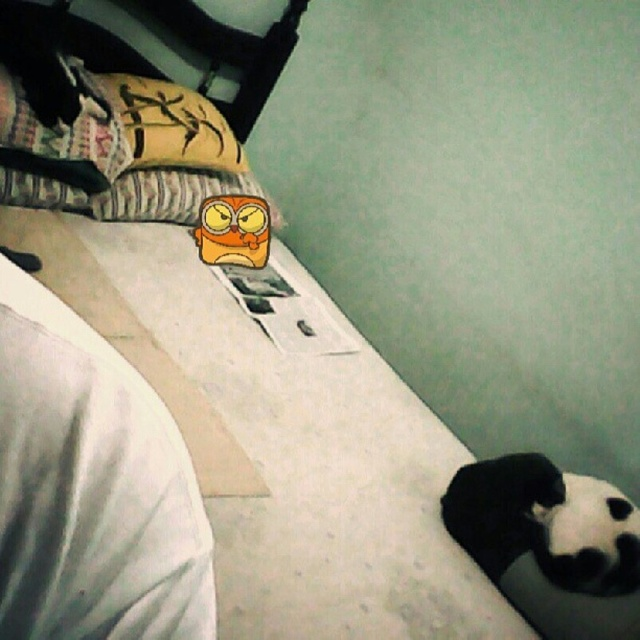Panda: (432, 451, 639, 639)
